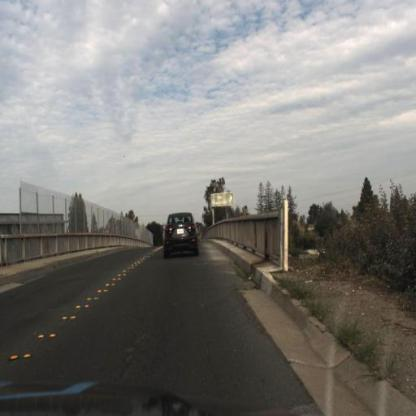car: (160, 206, 203, 262)
